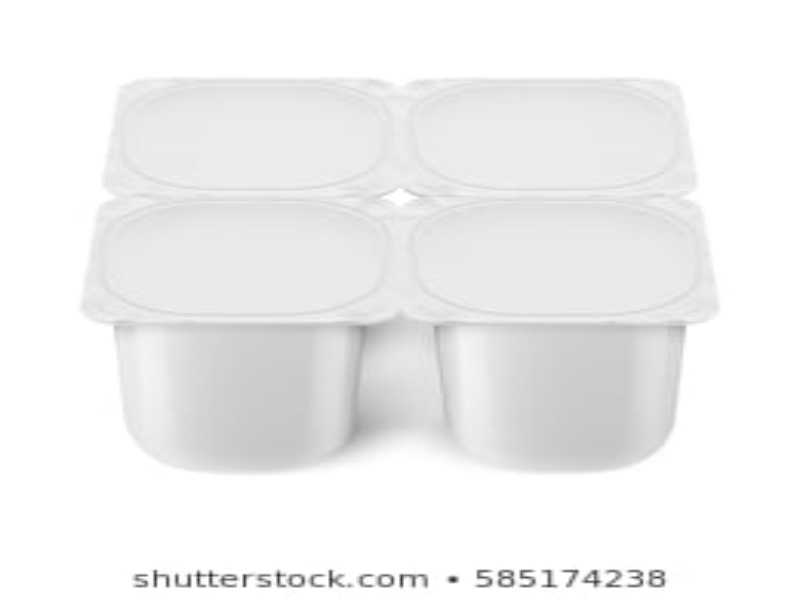yogurt-cup: (78, 190, 412, 474), (404, 194, 721, 473)
